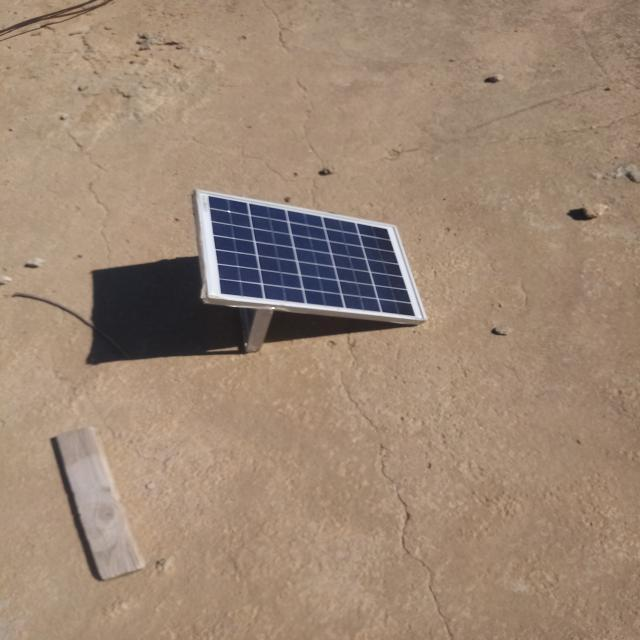no faulty: (198, 190, 426, 319)
